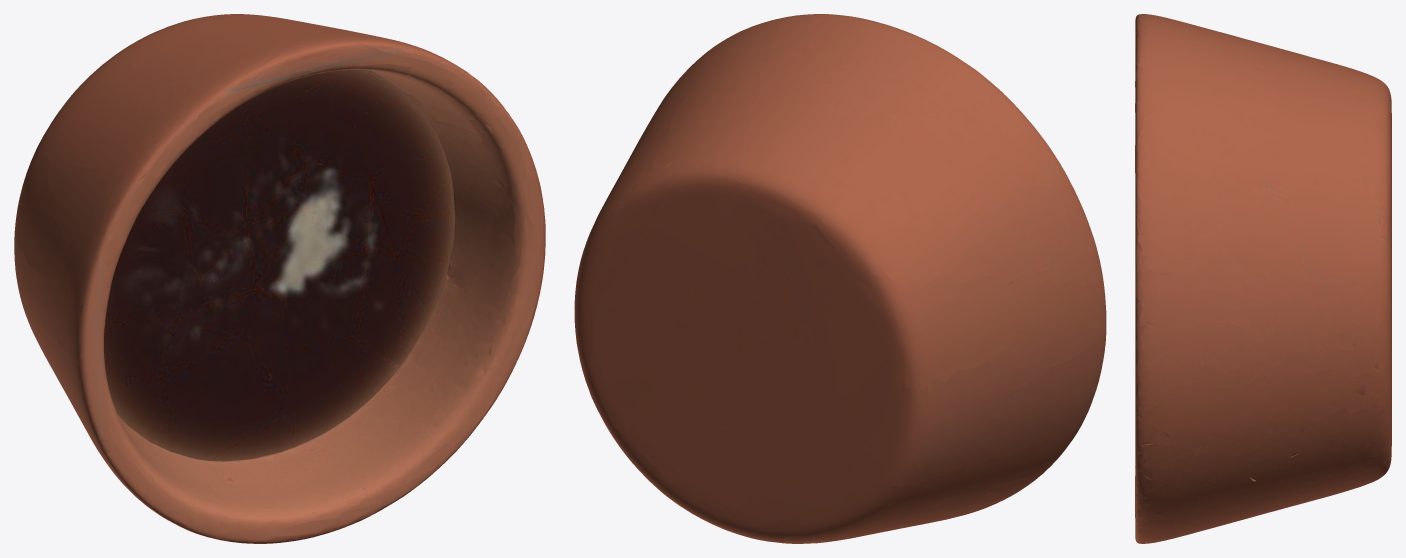
Rendered from sister-18.glb.
3 renders of one model, left to right at view 1: azimuth 30°, elevation 25°; view 2: azimuth 150°, elevation 25°; view 3: azimuth 270°, elevation 25°, orthographic.
Parts seen in each view (by area): view 1: terracotta bowl with dark liquid; view 2: terracotta bowl with dark liquid; view 3: terracotta bowl with dark liquid.
Boxes of the visible parts, x1=… form: terracotta bowl with dark liquid: x1=14, y1=14, x2=545, y2=543; terracotta bowl with dark liquid: x1=574, y1=14, x2=1106, y2=543; terracotta bowl with dark liquid: x1=1135, y1=14, x2=1391, y2=543.
Size of the model in its own units: 0.0811 by 0.0811 by 0.0393.
Materials: 1 (1 with a texture image).
